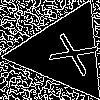X: (38, 27, 99, 77)
